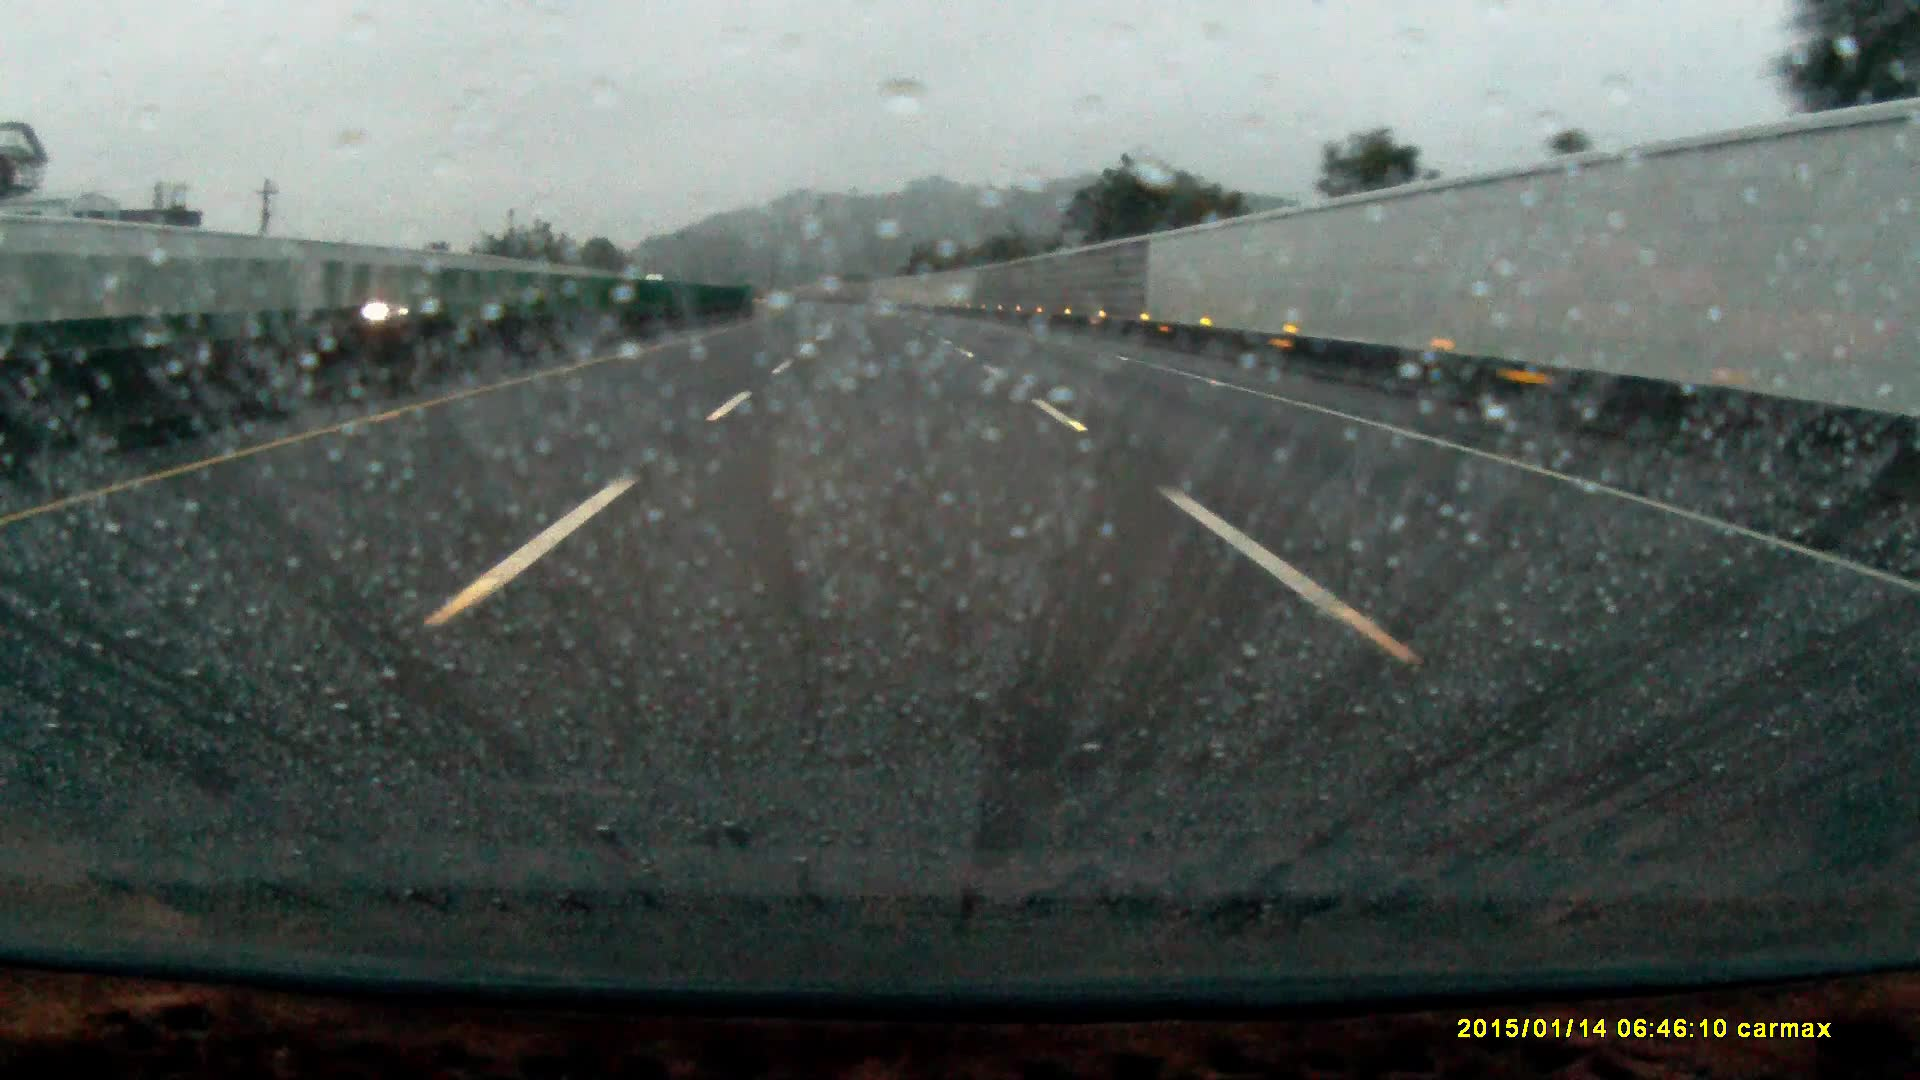vehicle: (368, 293, 433, 320)
